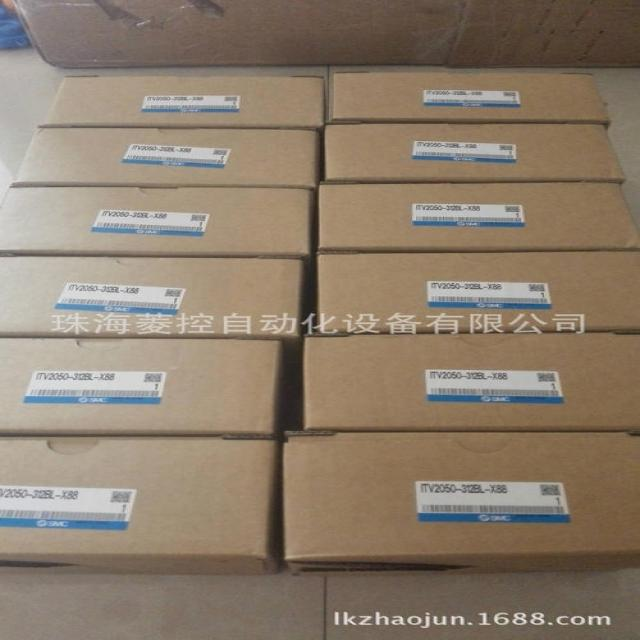box: (283, 430, 640, 575), (3, 434, 279, 575), (303, 331, 640, 430), (0, 338, 284, 433), (316, 250, 640, 333), (0, 254, 306, 340), (0, 185, 312, 257), (316, 182, 640, 249), (10, 127, 317, 187), (324, 123, 631, 180), (38, 75, 324, 128), (325, 73, 609, 121)
